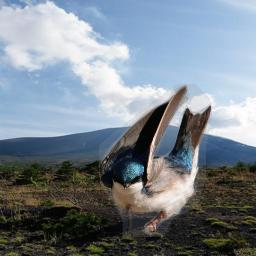Swallow: (99, 84, 213, 237)
